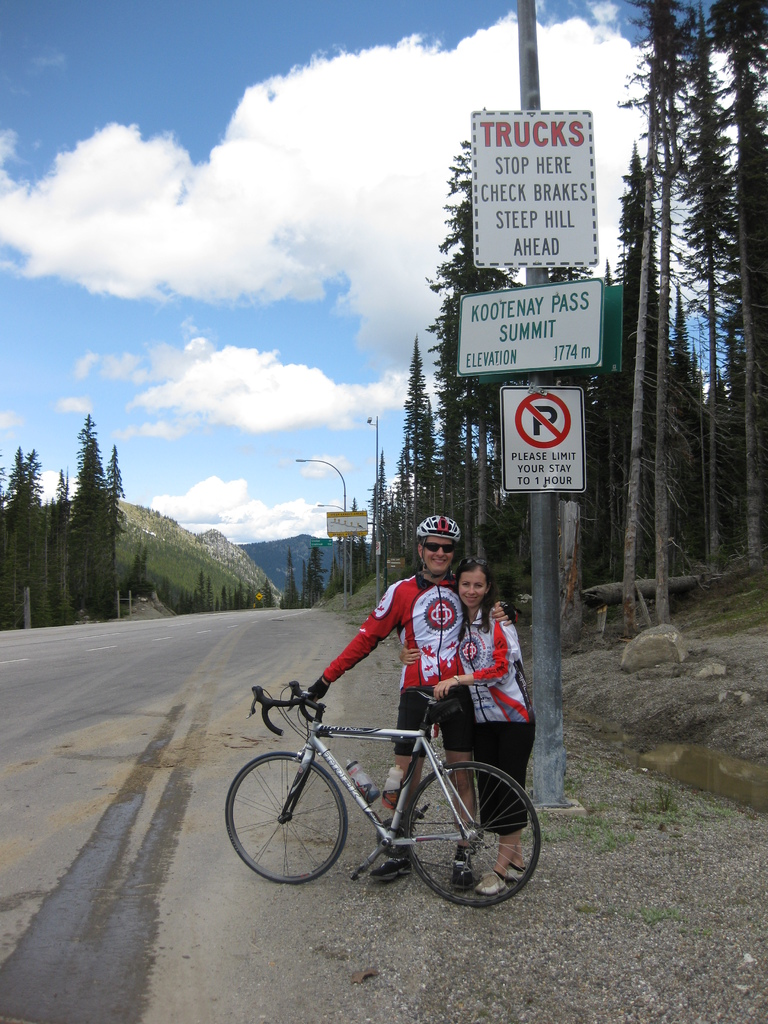Bike: (234, 699, 530, 908)
